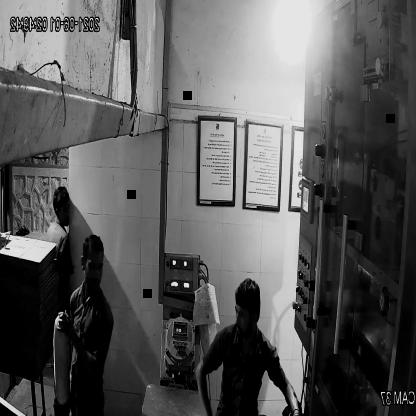no_goggles: (231, 303, 264, 328), (79, 257, 109, 278)
